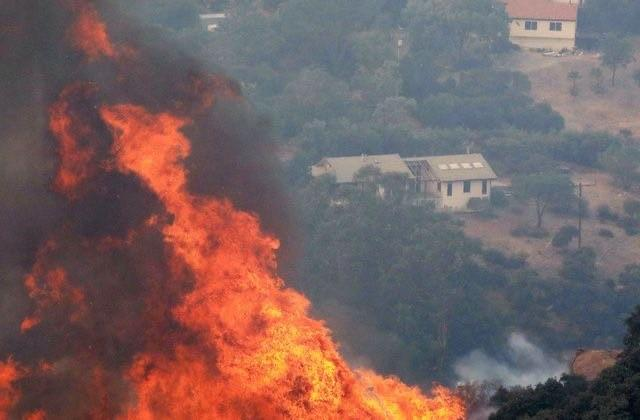fire: (11, 98, 322, 420), (258, 233, 532, 420)
